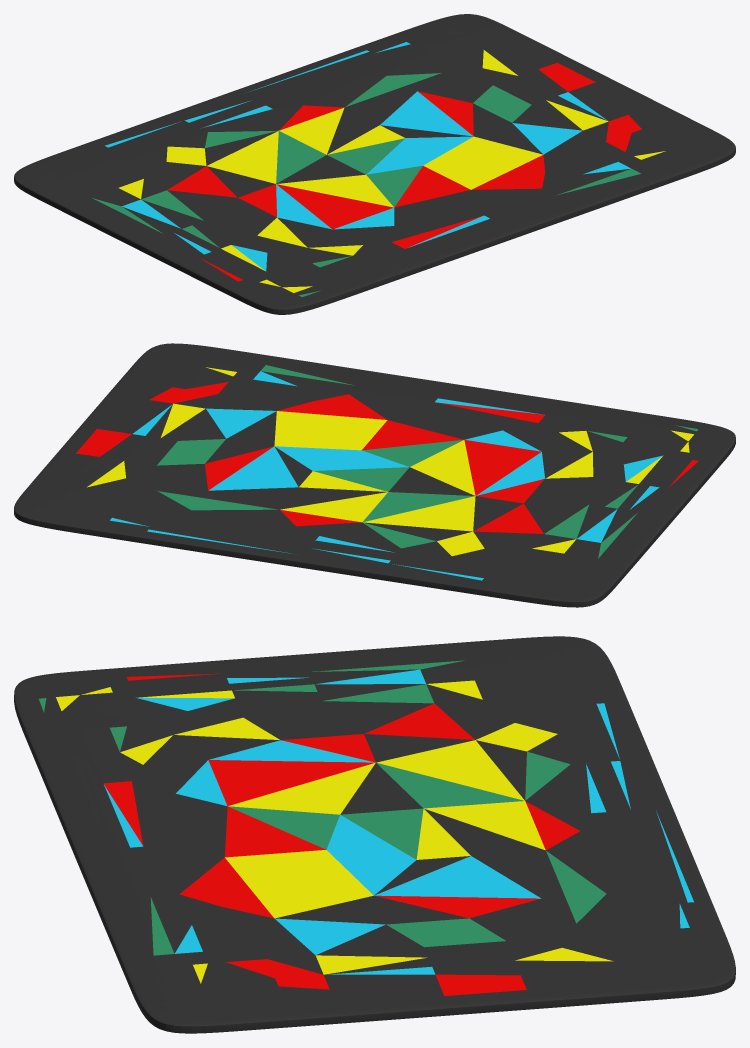
The model's file is bXH5RpSa88Q.glb.
The picture shows the model from 3 angles, top to bottom: view 1: azimuth 30°, elevation 25°; view 2: azimuth 150°, elevation 25°; view 3: azimuth 270°, elevation 25°; orthographic projection. The views are drawn at different scales.
Parts seen in each view (by area): view 1: Box002; view 2: Box002; view 3: Box002.
Part boxes in pixels (x1=…): Box002: x1=14, y1=14, x2=735, y2=314; Box002: x1=14, y1=343, x2=735, y2=607; Box002: x1=14, y1=636, x2=735, y2=1033.
Bounding box in the file's own units: 71.54 × 0.9956 × 55.97.
